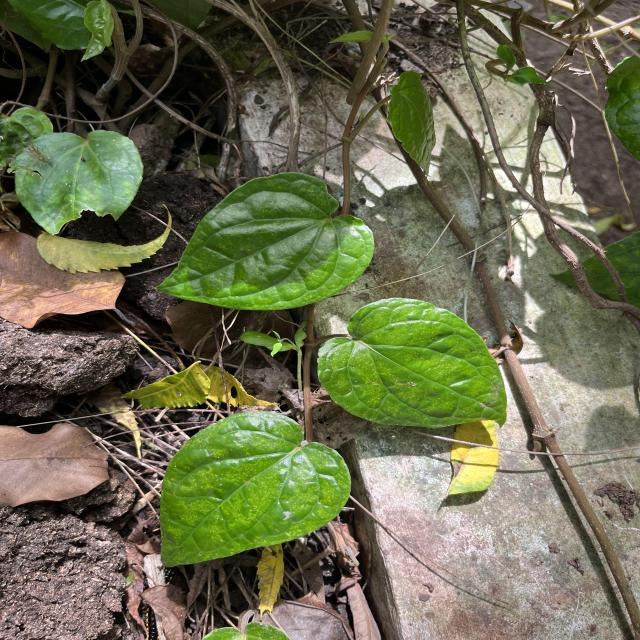Piper betle: (152, 170, 378, 312), (158, 410, 353, 570), (315, 296, 510, 432)
